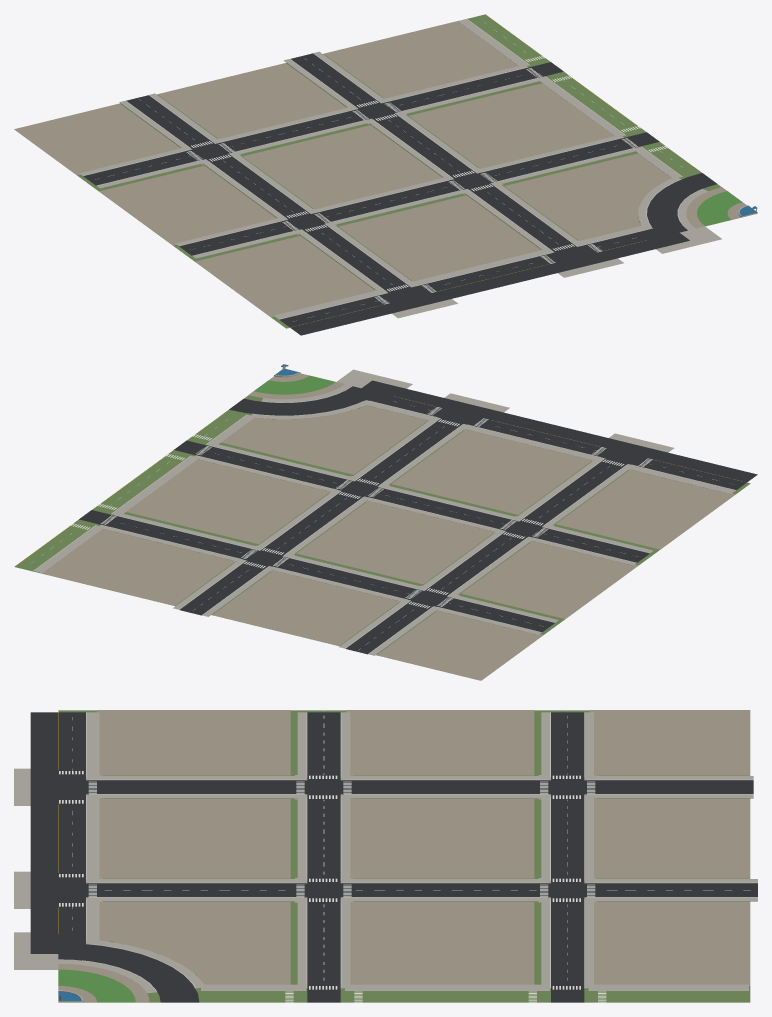
Rendered from Ground_3_4.fbx.
3 renders of one model, top to bottom at view 1: azimuth 30°, elevation 25°; view 2: azimuth 150°, elevation 25°; view 3: azimuth 270°, elevation 25°, orthographic. The views are drawn at different scales.
Parts seen in each view (by area): view 1: Ground_3_4; view 2: Ground_3_4; view 3: Ground_3_4.
Part boxes in pixels (x1,y1,x2,y2): Ground_3_4: [14, 14, 757, 335]; Ground_3_4: [14, 364, 757, 680]; Ground_3_4: [14, 709, 757, 1002].
Size of the model in its own units: 251 by 2.75 by 269.
